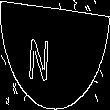N_N: (43, 28, 67, 82)
